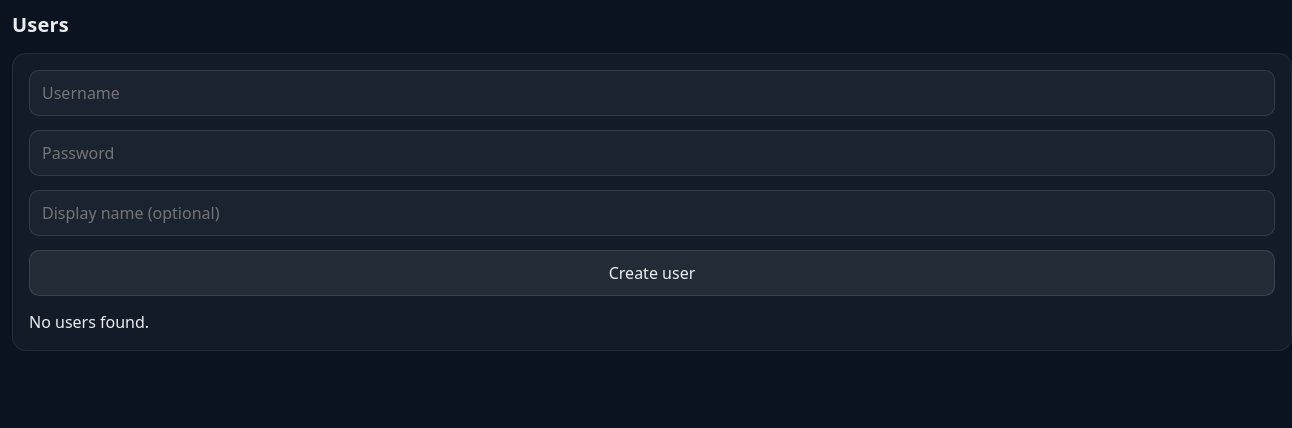
Scenario: UserManagerPage › validates required fields
What coordinates should you click on to do the following:
click the button "Create user"
I would click on:
 (652, 273)
Its box is [29,250,1275,296].
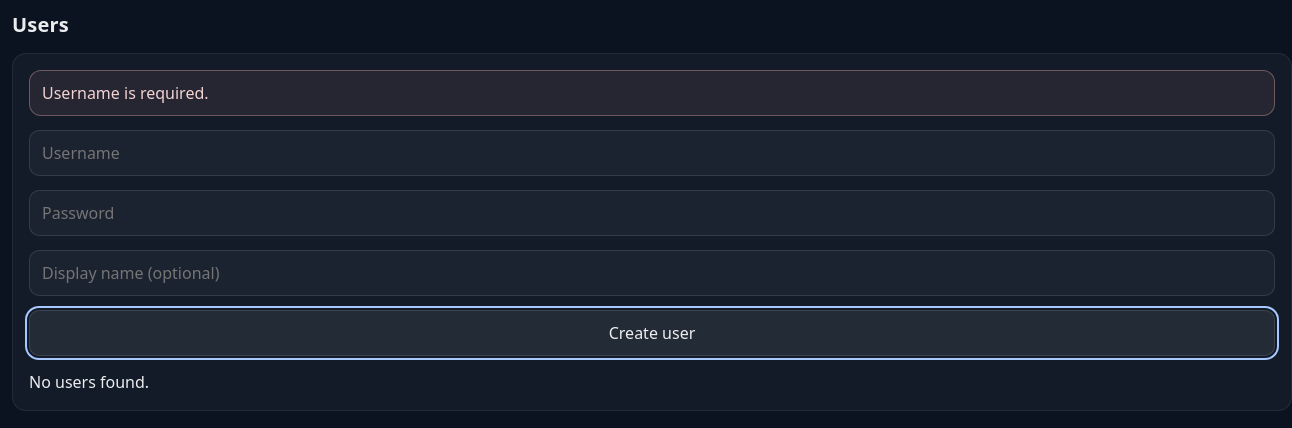
Expected: the message shows "Username is required", [42,82,209,104]
